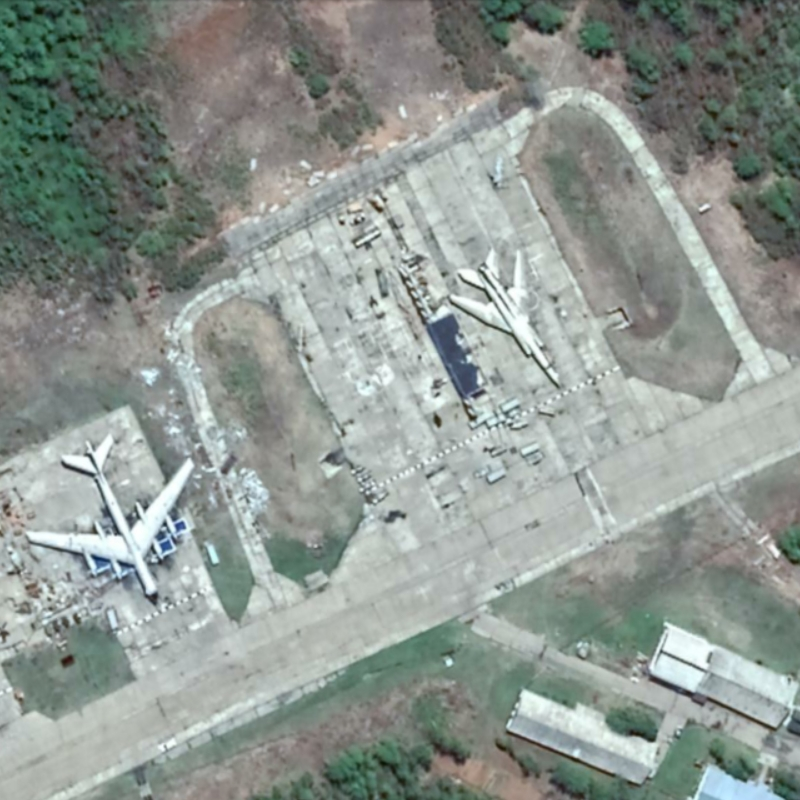A12: (446, 245, 563, 392)
A17: (20, 430, 199, 609)
